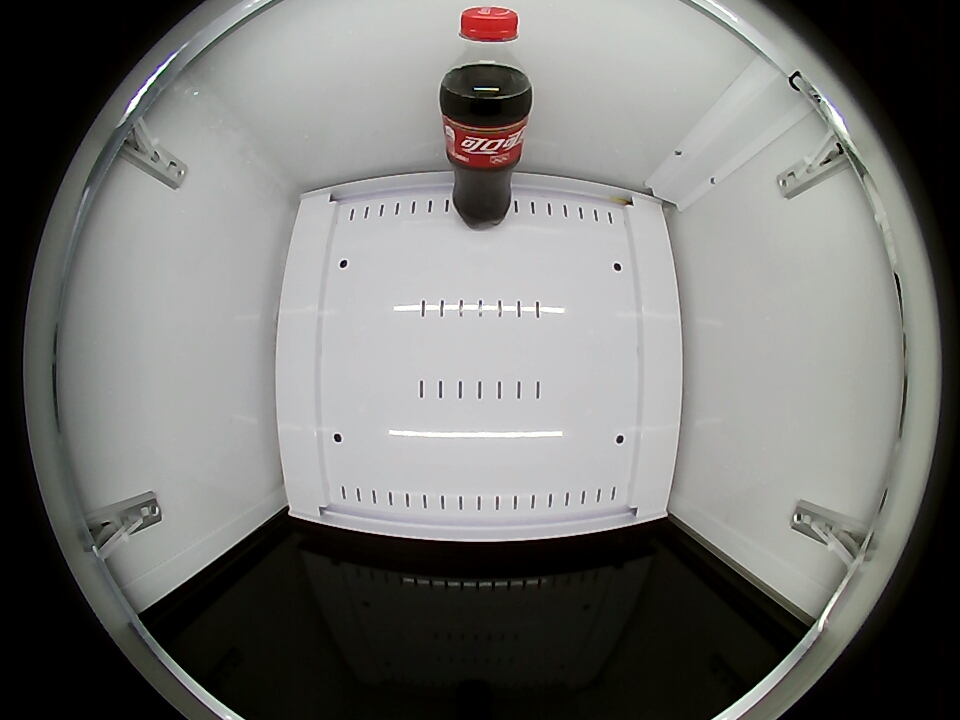kele-b: (442, 4, 528, 107)
